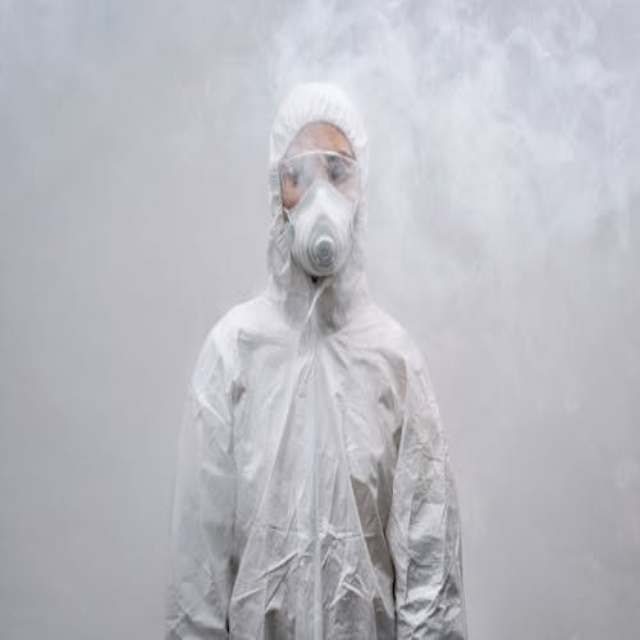Gafas: (278, 149, 360, 203)
Mascara: (285, 176, 357, 279)
